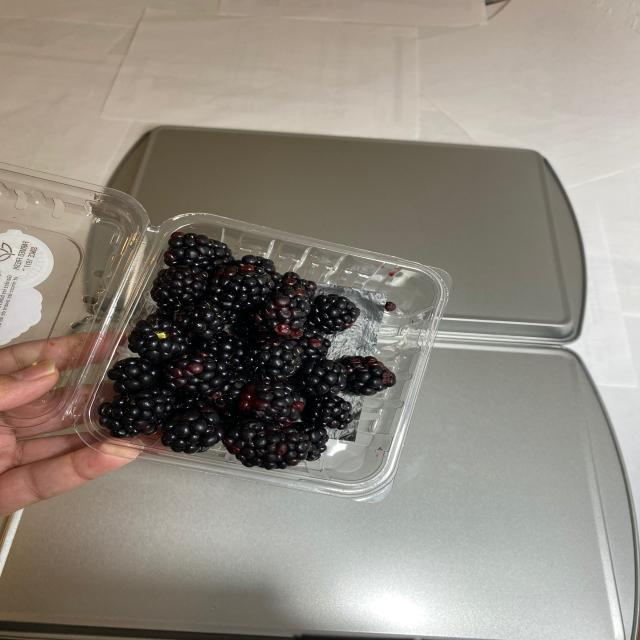blackberries: (146, 214, 397, 476)
